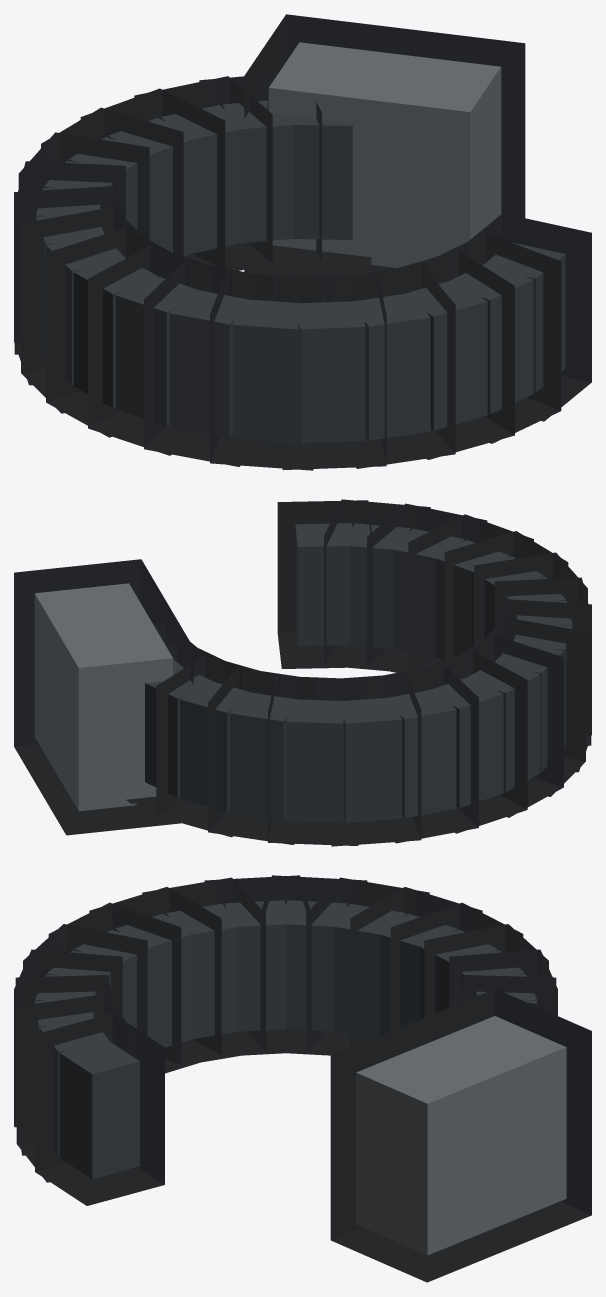
File: SM_Collar_Open.glb
3 views of the same model, one above another, from view 1: azimuth 30°, elevation 25°; view 2: azimuth 150°, elevation 25°; view 3: azimuth 270°, elevation 25° (orthographic). The views are drawn at different scales.
Visible parts, largest first — view 1: SM_Collar_Open, SM_Collar_Open_Outline; view 2: SM_Collar_Open, SM_Collar_Open_Outline; view 3: SM_Collar_Open, SM_Collar_Open_Outline.
Part boxes in pixels (bbox=[...]): SM_Collar_Open: bbox=[36, 42, 565, 443]; SM_Collar_Open_Outline: bbox=[14, 14, 591, 470]; SM_Collar_Open: bbox=[34, 523, 572, 822]; SM_Collar_Open_Outline: bbox=[14, 499, 591, 846]; SM_Collar_Open: bbox=[35, 900, 566, 1255]; SM_Collar_Open_Outline: bbox=[14, 875, 591, 1282].
Size of the model in its own units: 0.2264 by 0.079 by 0.2245.
Materials: 2 (1 with a texture image).
